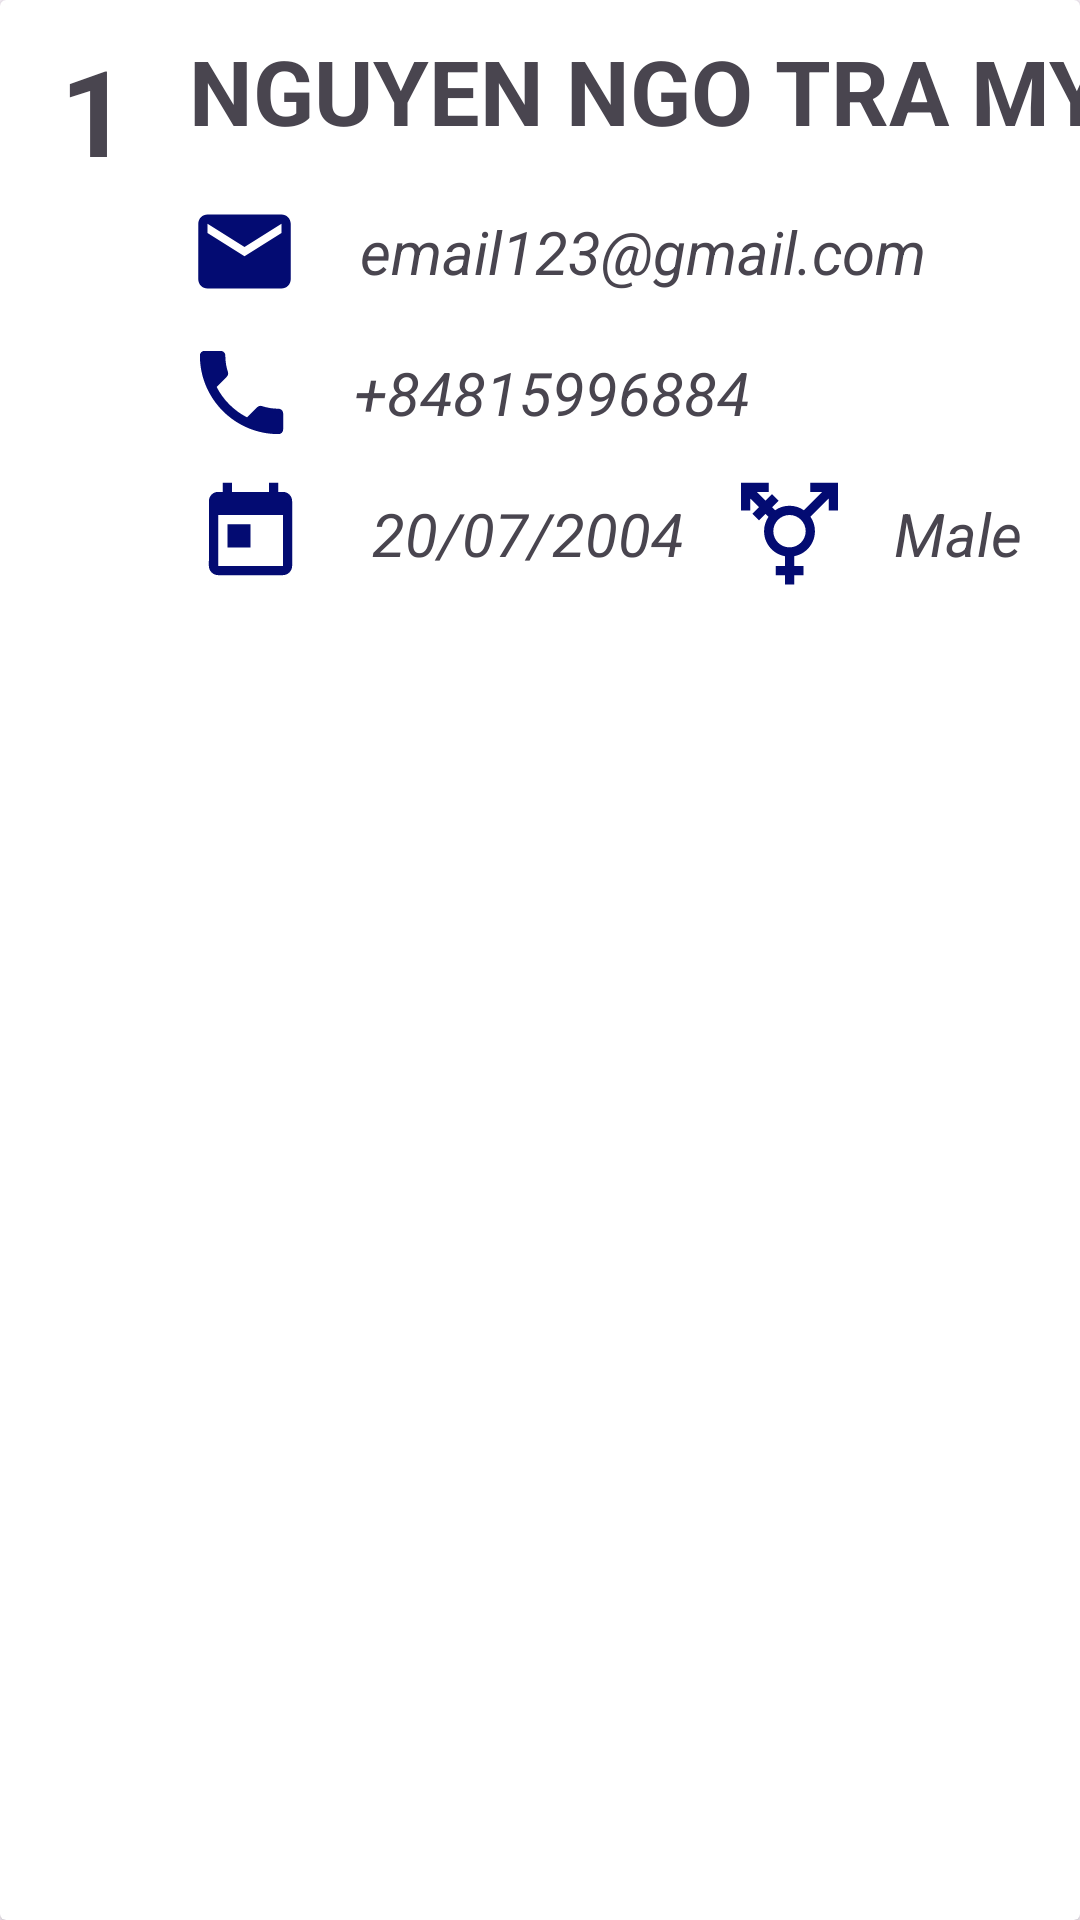

Locate icon controls on the screen. Image size 1080 x 1920, boxes as Rect(x1, y1, x2, y2).
phone: Rect(200, 351, 284, 434)
today: Rect(208, 482, 293, 576)
transgender: Rect(741, 482, 838, 585)
